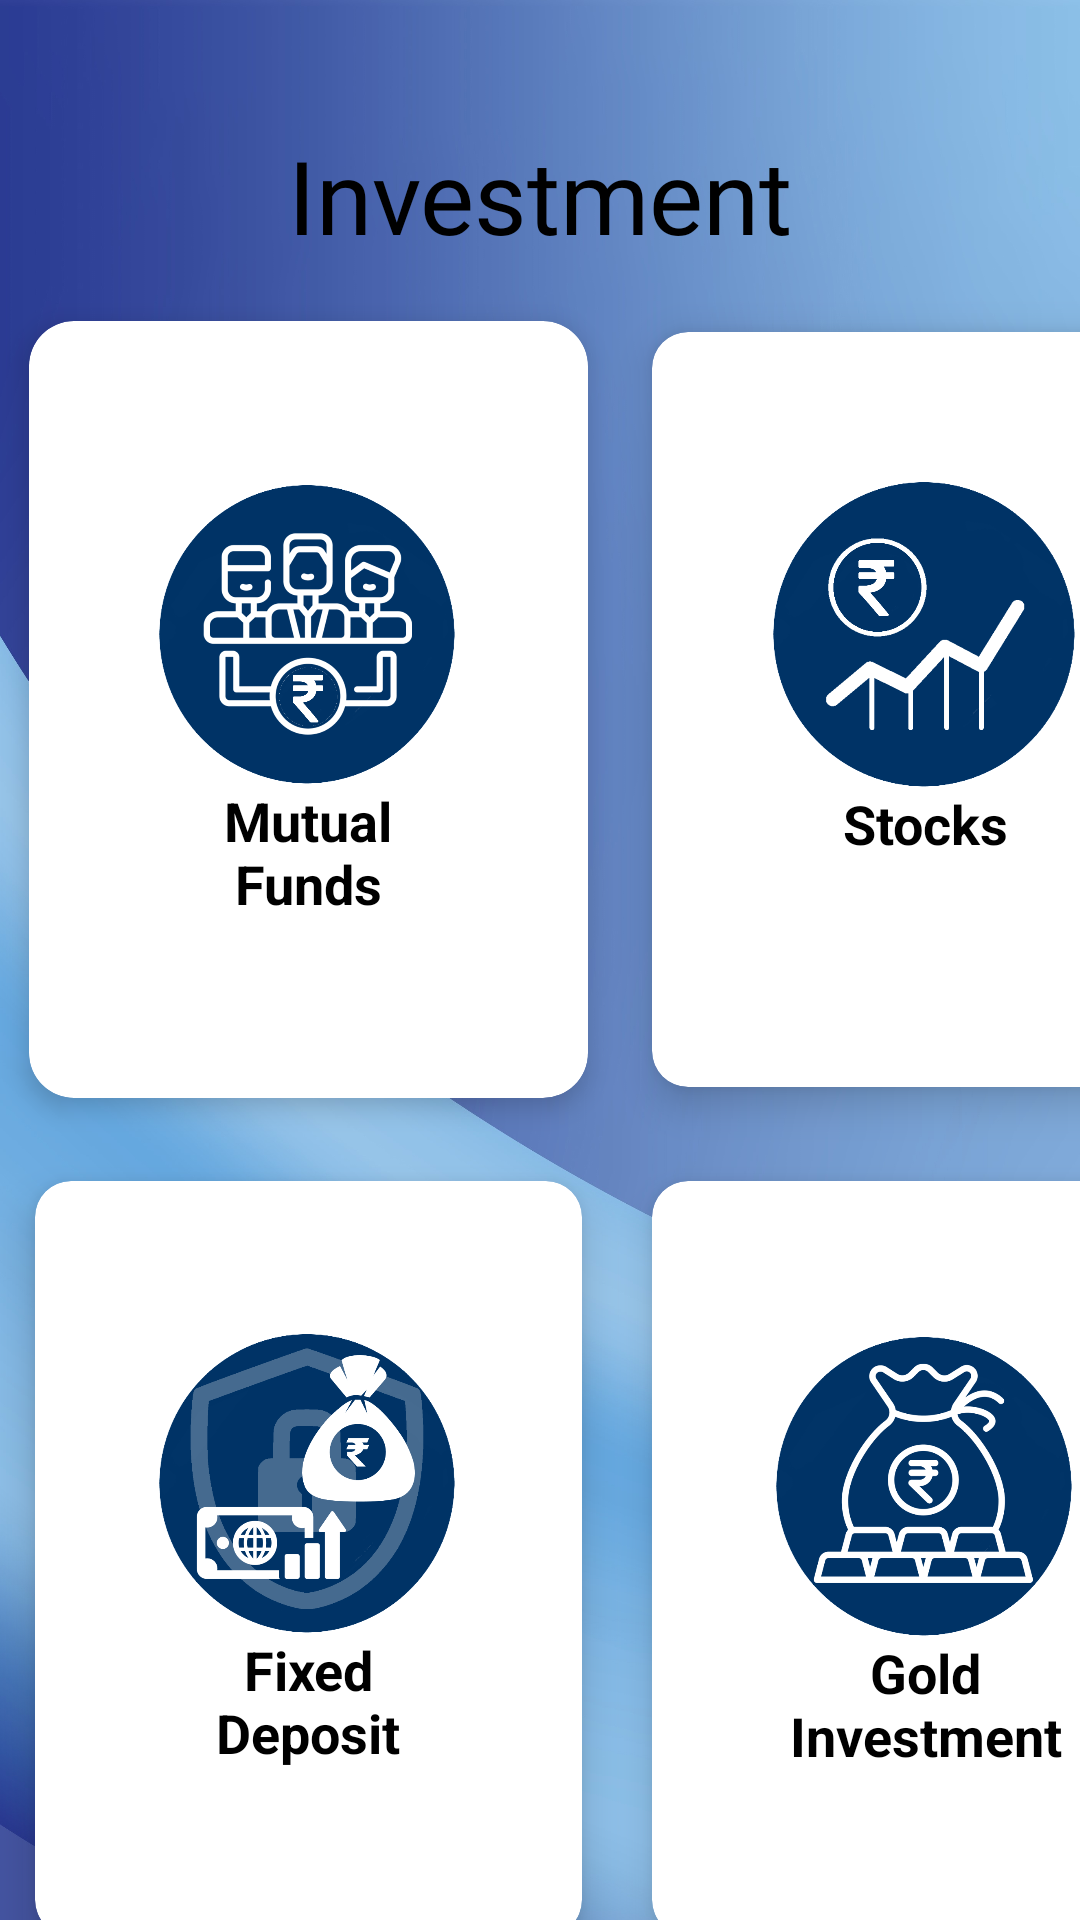

Icon click points for this 1080 × 1920 phone screenshot, format point (x, y):
goldloan: point (924, 1486)
